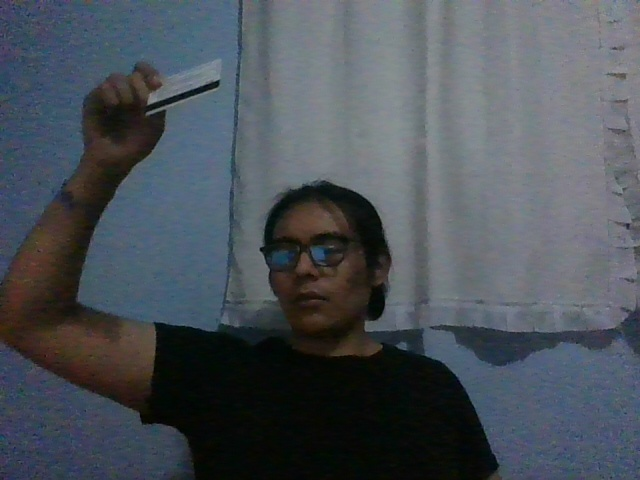tarjeta: (145, 58, 223, 118)
